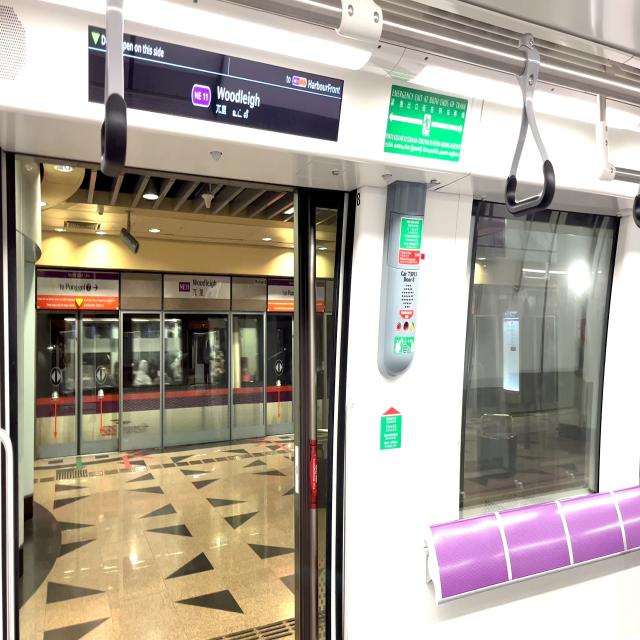bus-door: (6, 153, 348, 640)
